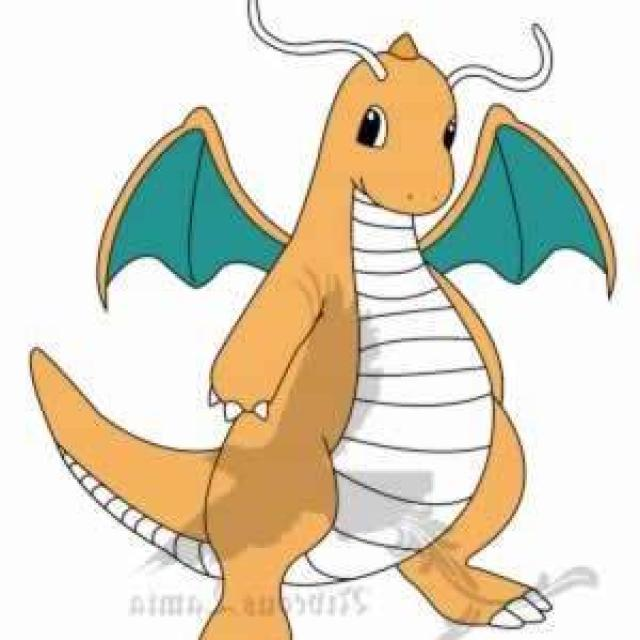Dragonite: (171, 43, 535, 632)
